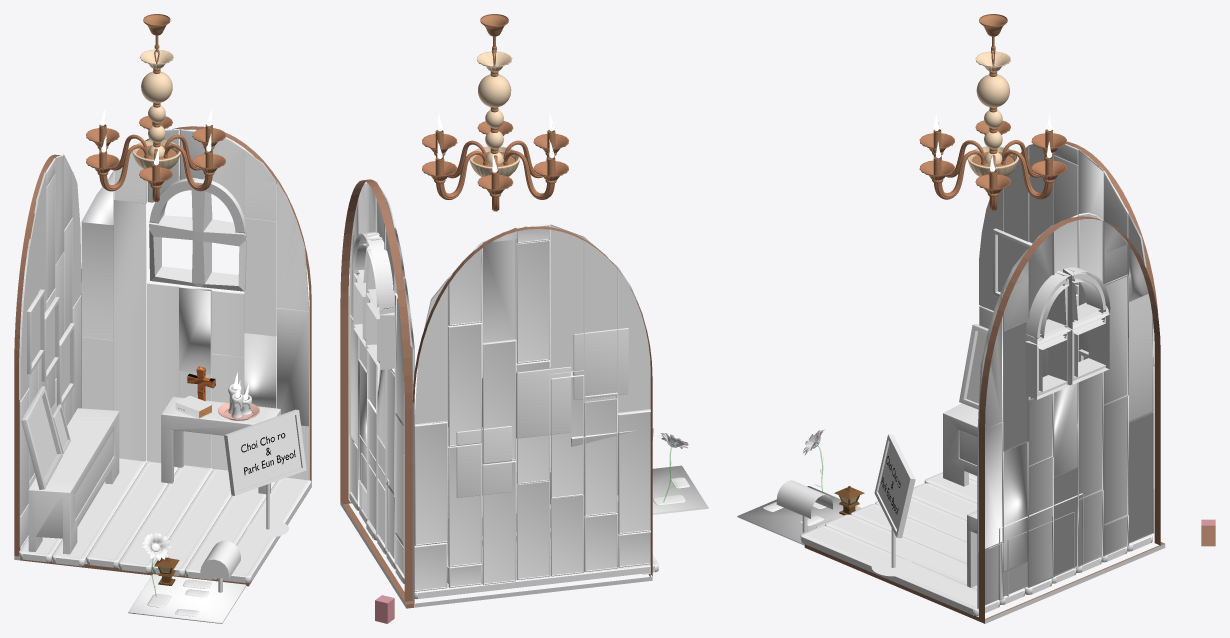
File: tryWedding_2.glb
3 renders of one model, left to right at view 1: azimuth 30°, elevation 25°; view 2: azimuth 150°, elevation 25°; view 3: azimuth 270°, elevation 25°, orthographic. The views are drawn at different scales.
Visible parts, largest first — view 1: body, woodfloor, tables, toplight, window, chair, minifloor, photo1, photo5, Mailbox, photo3, photo4 (+6 smaller); view 2: body, toplight, window, photo5, photo4, photo3, woodfloor, minifloor, tables, photo1, Cube; view 3: body, woodfloor, window, toplight, tables, chair, minifloor, photo5, photo1, Mailbox, stand.
Part boxes in pixels (x1,y1,x2,y2): body: (14,126,311,586); woodfloor: (19,458,311,583); tables: (28,396,280,554); toplight: (86,14,225,202); window: (149,176,246,291); chair: (224,409,306,495); minifloor: (128,574,246,623); photo1: (21,386,62,489); photo5: (27,289,44,374); Mailbox: (200,540,240,592); photo3: (56,323,74,406); photo4: (41,296,59,381); body: (340,179,652,608); toplight: (422,14,568,211); window: (352,231,394,369); photo5: (572,328,628,399); photo4: (516,366,571,438); photo3: (456,426,511,497); woodfloor: (349,468,658,599); minifloor: (652,465,708,514); tables: (357,433,618,583); photo1: (571,426,653,494); Cube: (375,595,394,623); body: (804,141,1165,623); woodfloor: (800,472,1152,615); window: (1025,267,1110,399); toplight: (919,14,1066,210); tables: (943,403,1083,600); chair: (874,434,915,538); minifloor: (737,486,861,545); photo5: (993,228,1032,297); photo1: (959,324,1030,409); Mailbox: (776,480,832,532); stand: (871,528,915,576).
Size of what is drawn, in the model's own units: 23.07 by 37.23 by 30.6.
53 materials, 1 textured.
